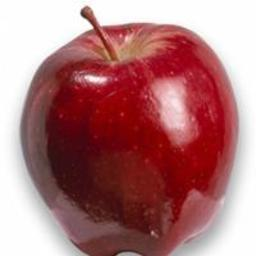apple: (18, 15, 236, 246)
